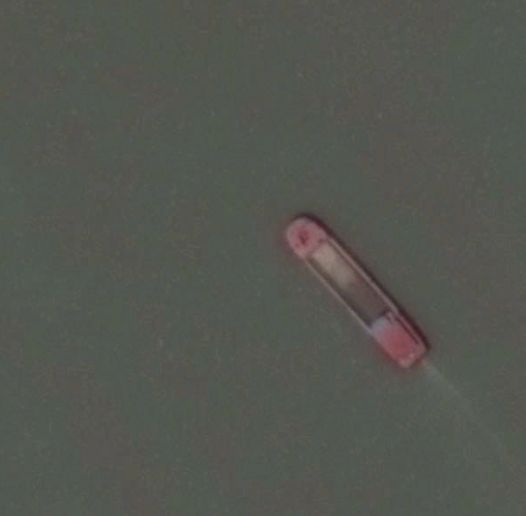boat: (282, 213, 430, 373)
